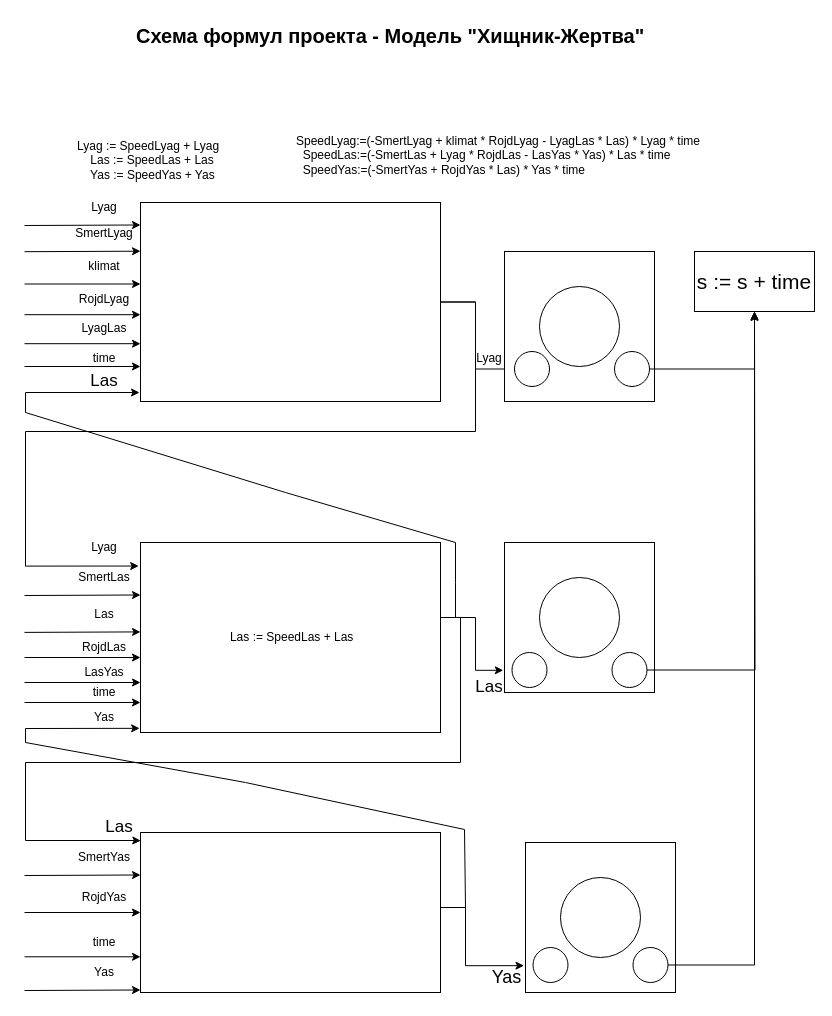
Image size: 832x1016. Some labels were removed from this diagram. The box of each missing label's shape, as (x1, y1, x2, y2) in pixels:
Lyag := SpeedLyag + Lyag: (140, 202, 440, 402)
Yas := SpeedYas + Yas: (140, 832, 440, 992)
